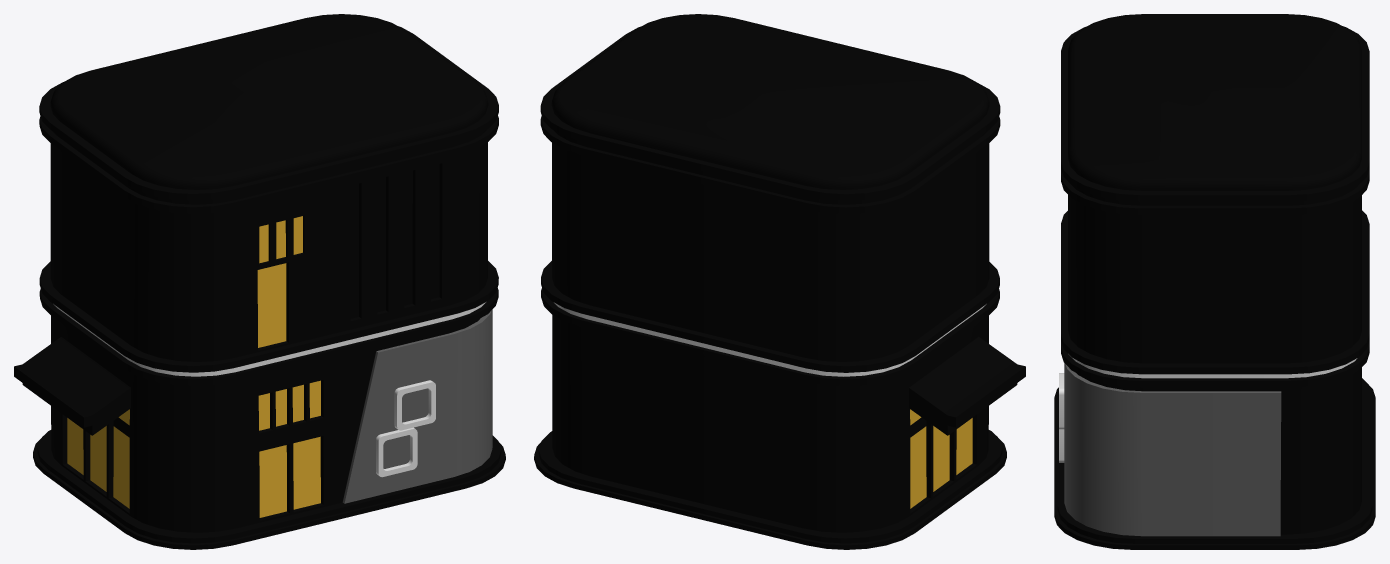
File: basketball.fbx
3 renders of one model, left to right at view 1: azimuth 30°, elevation 25°; view 2: azimuth 150°, elevation 25°; view 3: azimuth 270°, elevation 25°, orthographic.
Parts seen in each view (by area): view 1: Cube; view 2: Cube; view 3: Cube.
Part boxes in pixels (bbox=[...]): Cube: bbox=[14, 14, 505, 549]; Cube: bbox=[534, 14, 1025, 549]; Cube: bbox=[1054, 14, 1375, 549].
Size of the model in its own units: 641 by 548 by 439.
